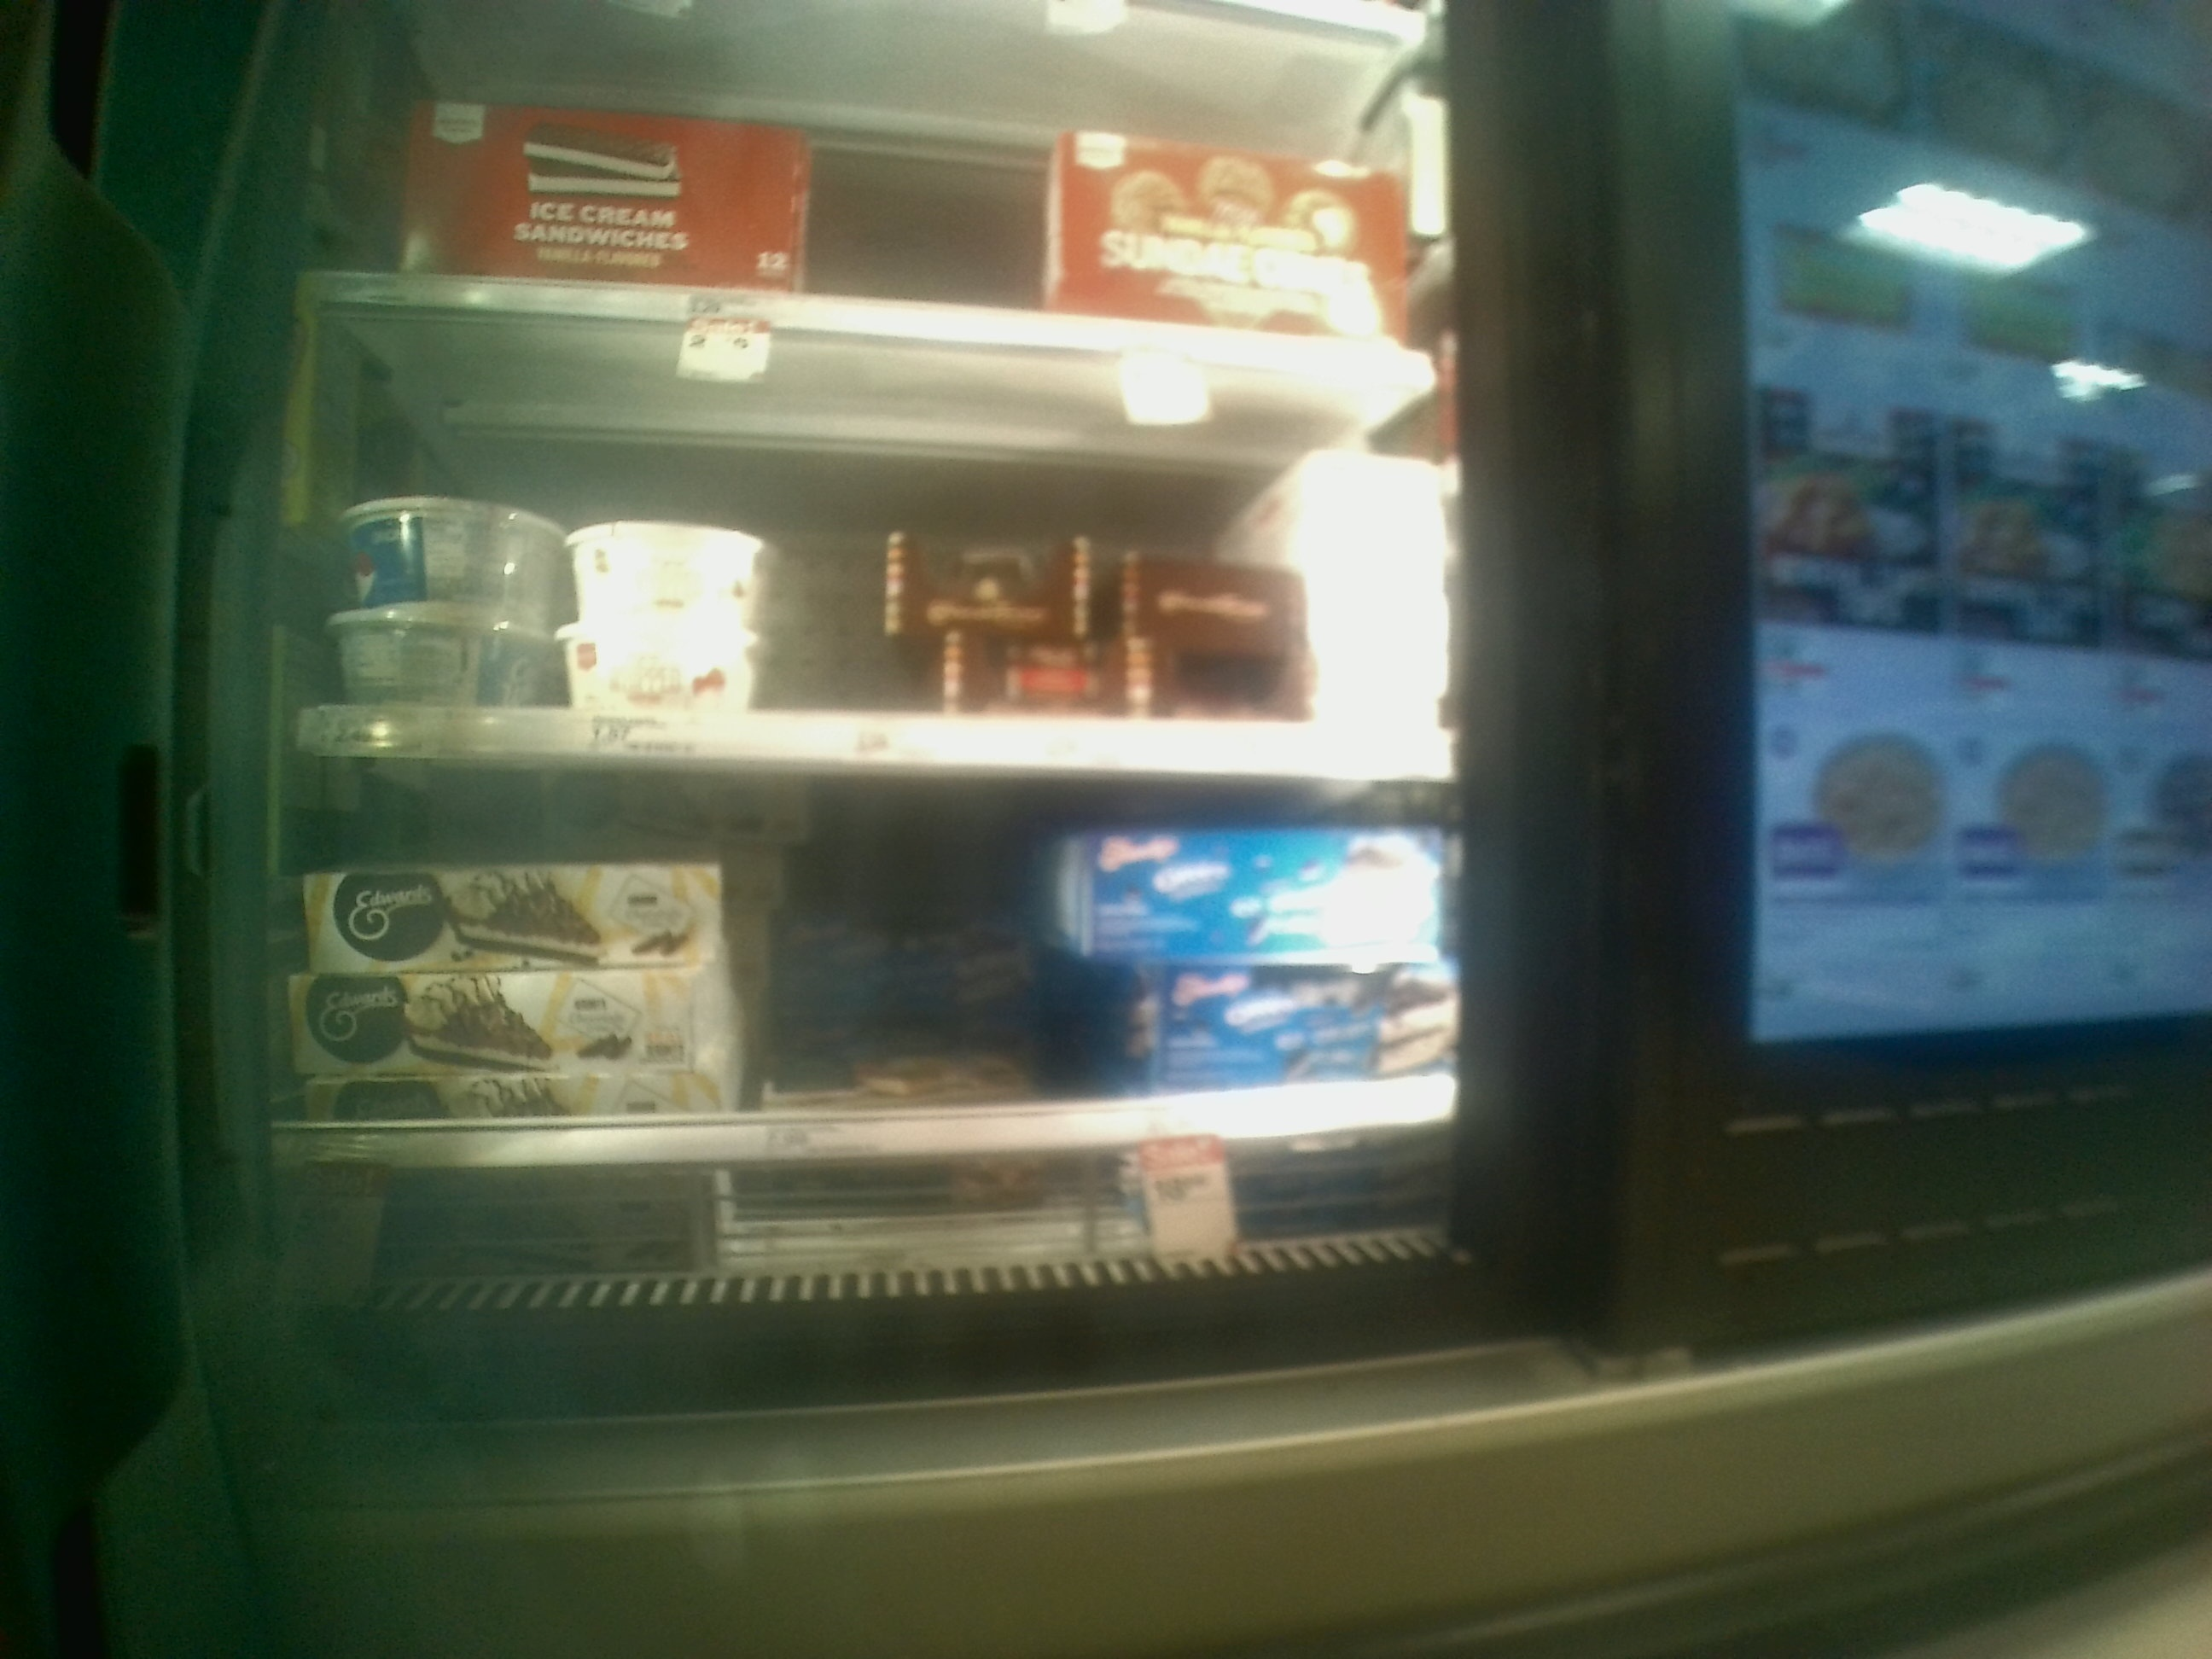shelf: (172, 784, 1536, 1208), (280, 305, 1491, 779)
